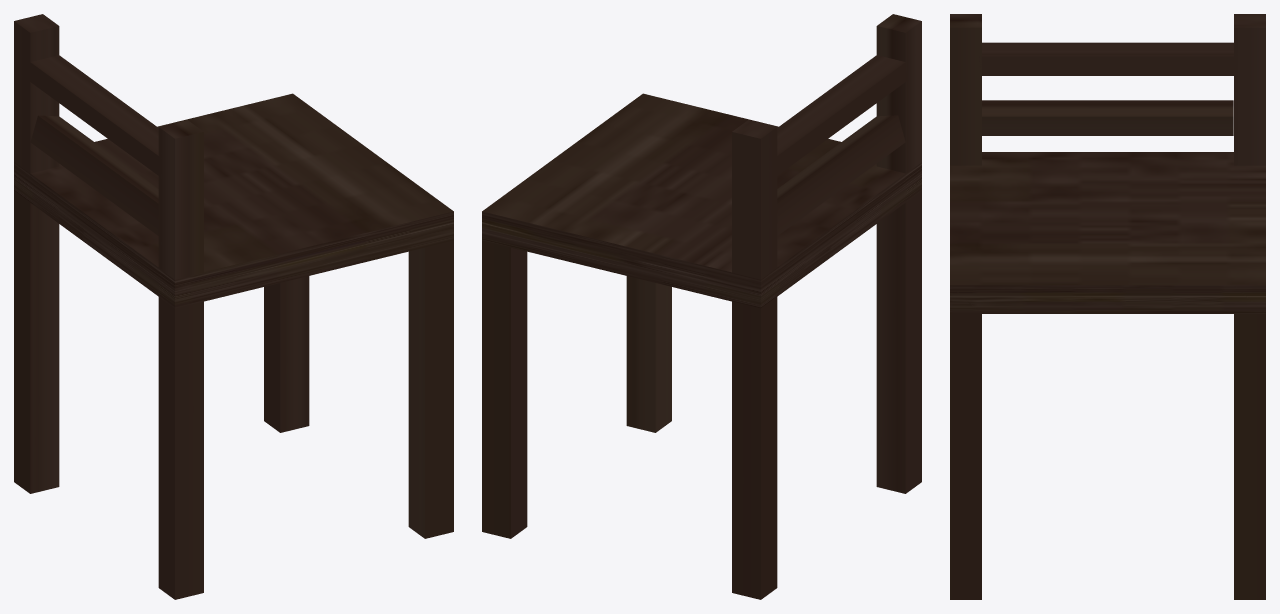
The model's file is wooden_bench.glb.
The picture shows the model from 3 angles, left to right: view 1: azimuth 30°, elevation 25°; view 2: azimuth 150°, elevation 25°; view 3: azimuth 270°, elevation 25°; orthographic projection.
Visible parts, largest first — view 1: Bench; view 2: Bench; view 3: Bench.
Part boxes in pixels (x1,y1,x2,y2): Bench: (14,14,453,599); Bench: (482,14,921,599); Bench: (950,14,1265,599).
Bounding box in the file's own units: 2 × 3.16 × 2.
1 material, 1 textured.
